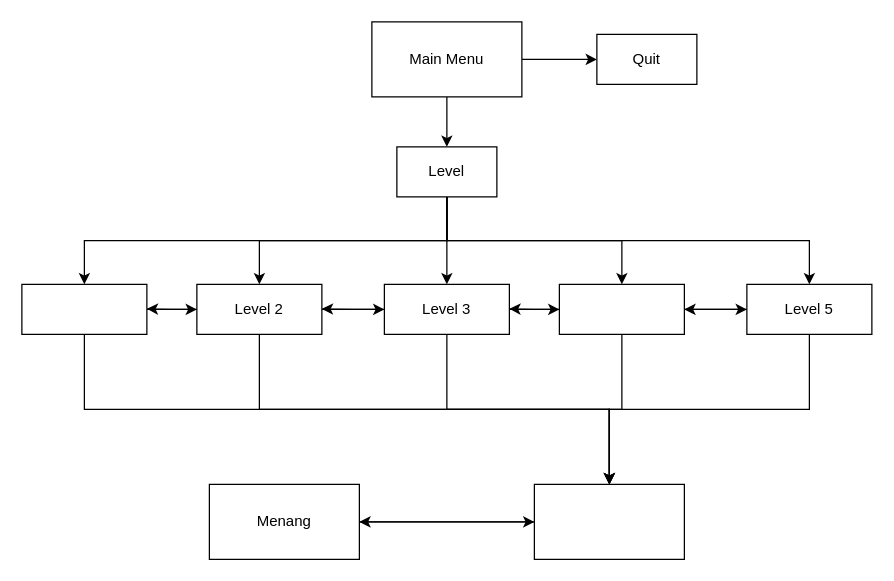
Some shapes in this 894 by 581 pixel diagram are drawn without their labels. The centre of each missing label's shape, as x and y in pixels:
"Kalah" belongs at point (608, 521).
"Level 1" belongs at point (84, 308).
"Level 4" belongs at point (621, 308).
